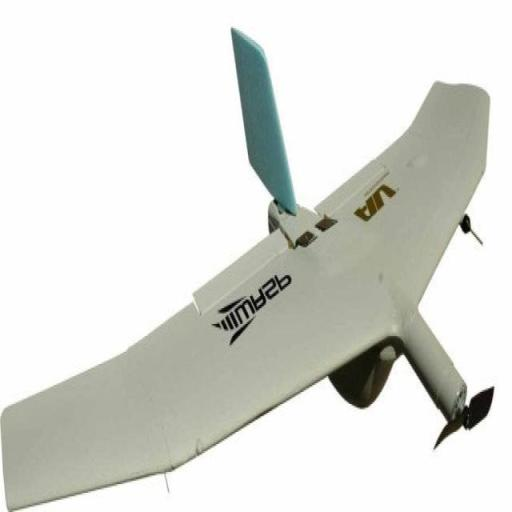uav: (0, 29, 504, 512)
